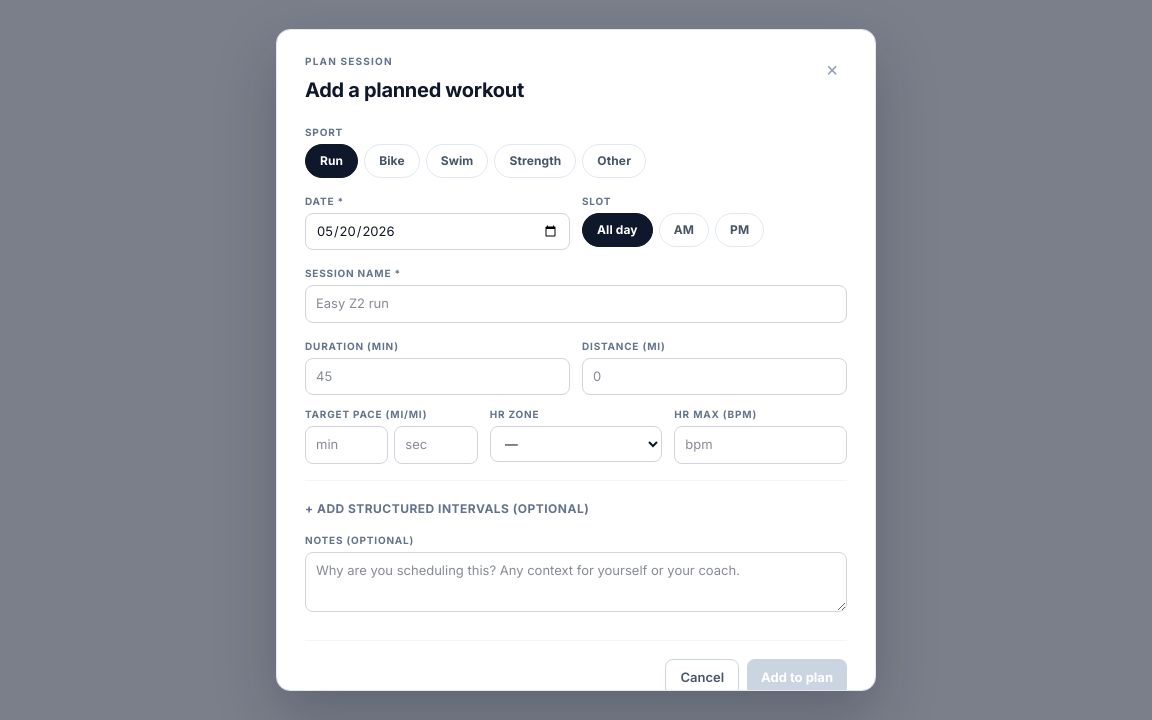
Scenario: PlanSessionModal — sport picker › switches to strength fields when Strength pill is clicked
Click the button "Strength" at (535,161), box top-left (494, 144), bottom-right (576, 178)
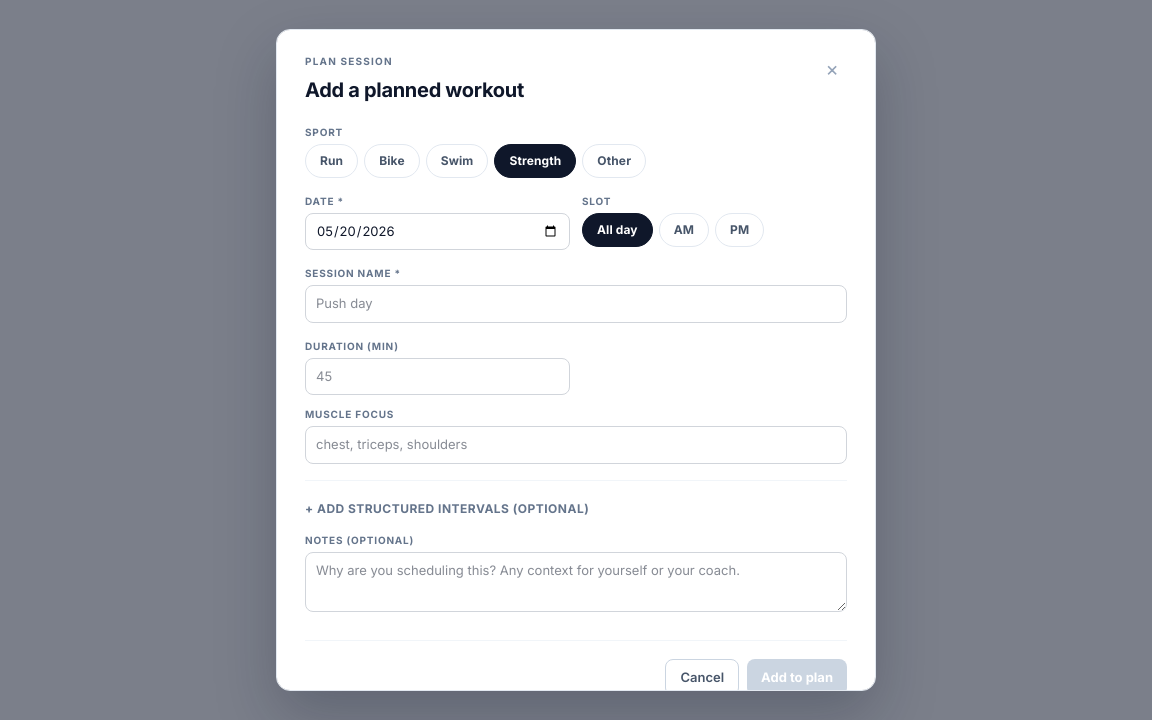
expect the field named "muscle focus" is shown: met, box top-left (305, 426), bottom-right (847, 464)
